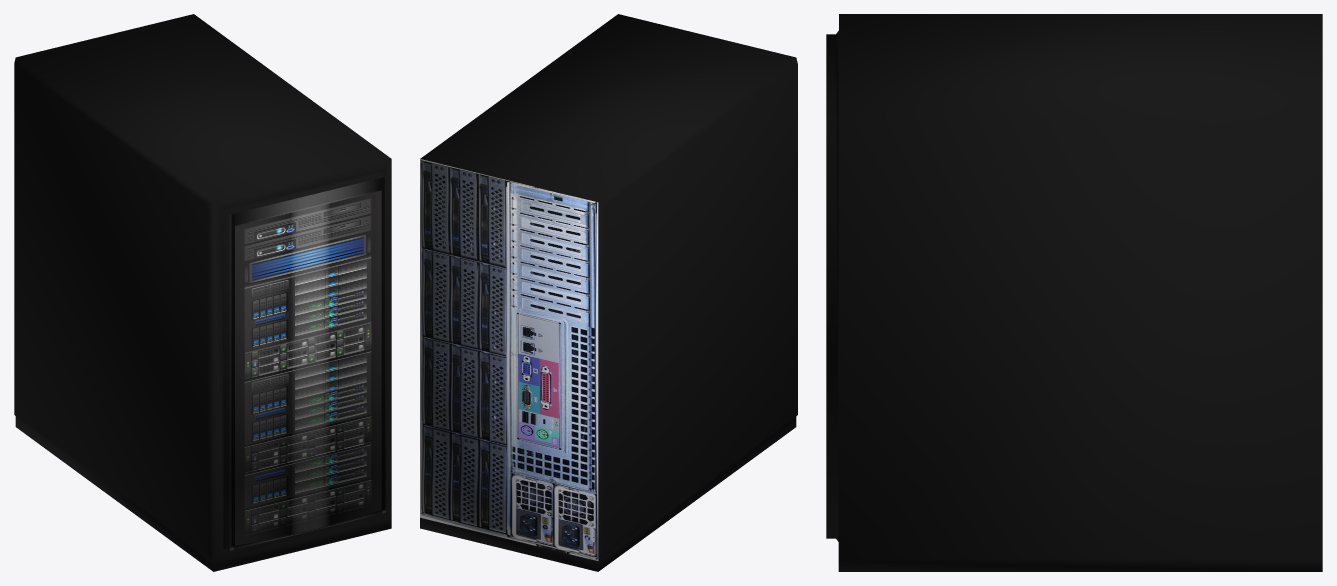
File: ASU.gltf
The picture shows the model from 3 angles, left to right: view 1: azimuth 30°, elevation 25°; view 2: azimuth 150°, elevation 25°; view 3: azimuth 270°, elevation 25°; orthographic projection. The views are drawn at different scales.
Visible parts, largest first — view 1: server.001; view 2: server.001; view 3: server.001.
Boxes of the visible parts, x1,y1,x2,y2 form: server.001: (14, 14, 391, 571); server.001: (420, 14, 797, 571); server.001: (826, 14, 1322, 571).
Size of the model in its own units: 0.4462 by 0.8663 by 0.8631.
3 materials, 2 textured.
